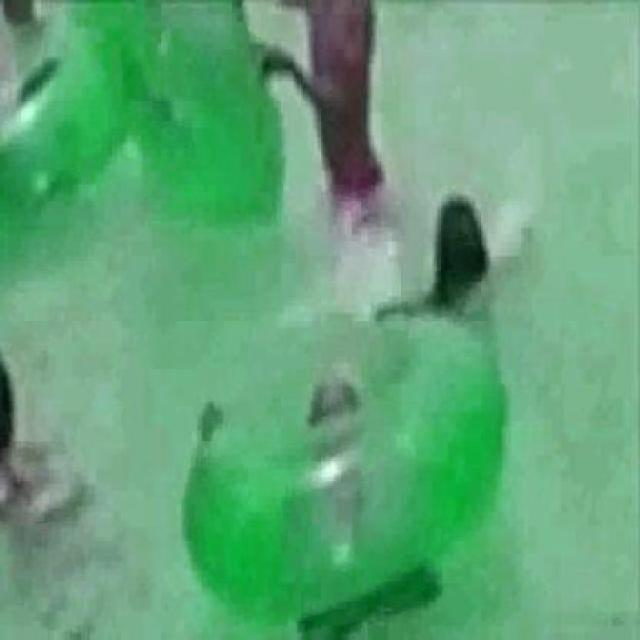drowning: (0, 372, 105, 603), (424, 184, 542, 324)
